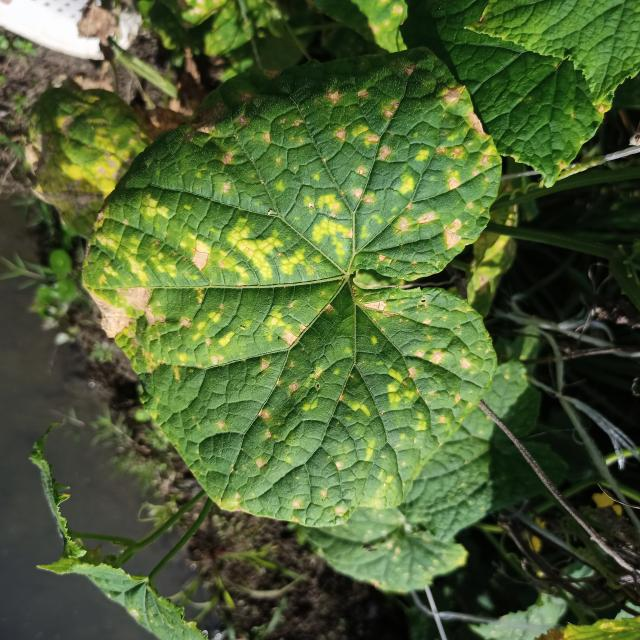disease_cucumber: (92, 59, 500, 501)
